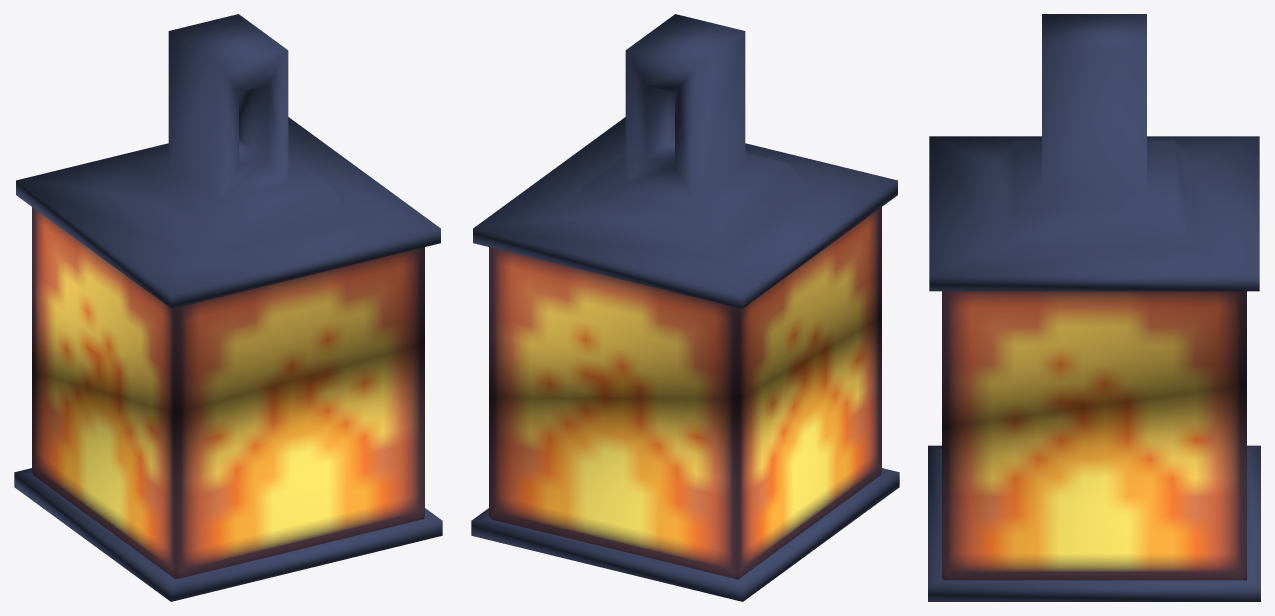
File: Lamparina.fbx
3 views of the same model, side by side, from view 1: azimuth 30°, elevation 25°; view 2: azimuth 150°, elevation 25°; view 3: azimuth 270°, elevation 25° (orthographic). The views are drawn at different scales.
Visible parts, largest first — view 1: Lamparina1; view 2: Lamparina1; view 3: Lamparina1.
Part boxes in pixels (x1,y1,x2,y2): Lamparina1: (14, 14, 442, 601); Lamparina1: (471, 14, 899, 601); Lamparina1: (928, 14, 1260, 601).
Bounding box in the file's own units: 34.56 × 34.56 × 57.23.
